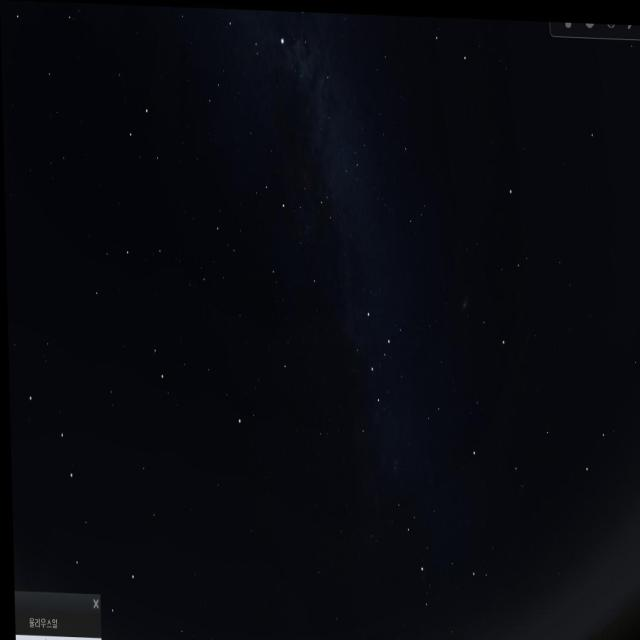cassiopeia: (341, 298, 395, 420)
ursa_major: (19, 387, 138, 623)
